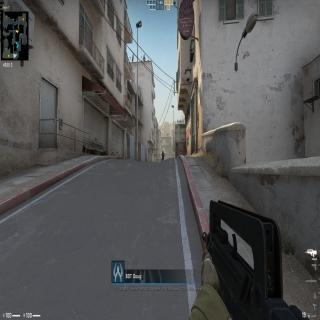T-Head: (162, 150, 164, 152)
